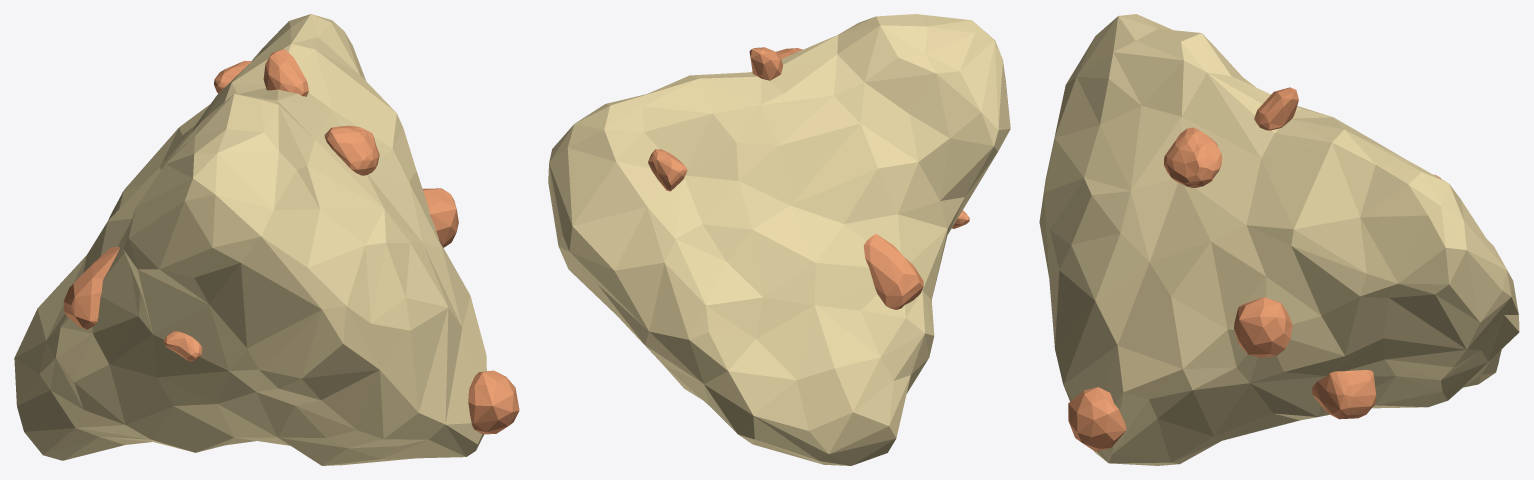
File: StoneOre (11).fbx
3 views of the same model, side by side, from view 1: azimuth 30°, elevation 25°; view 2: azimuth 150°, elevation 25°; view 3: azimuth 270°, elevation 25° (orthographic). The views are drawn at different scales.
Parts seen in each view (by area): view 1: Asteroid298; view 2: Asteroid298; view 3: Asteroid298.
Part boxes in pixels (x1,y1,x2,y2): Asteroid298: (14,14,519,465); Asteroid298: (548,14,1010,465); Asteroid298: (1039,14,1519,465).
Size of the model in its own units: 325 by 345 by 385.
